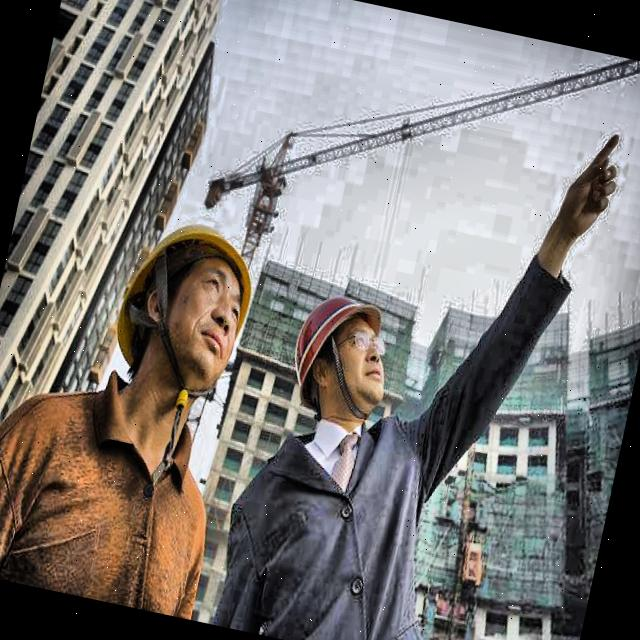helmet: (101, 210, 269, 398), (281, 283, 400, 425)
